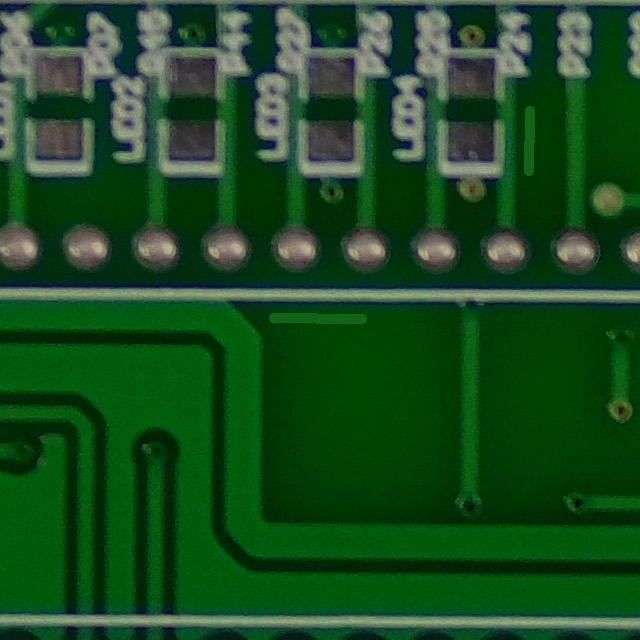spurious_copper: (257, 289, 383, 351)
